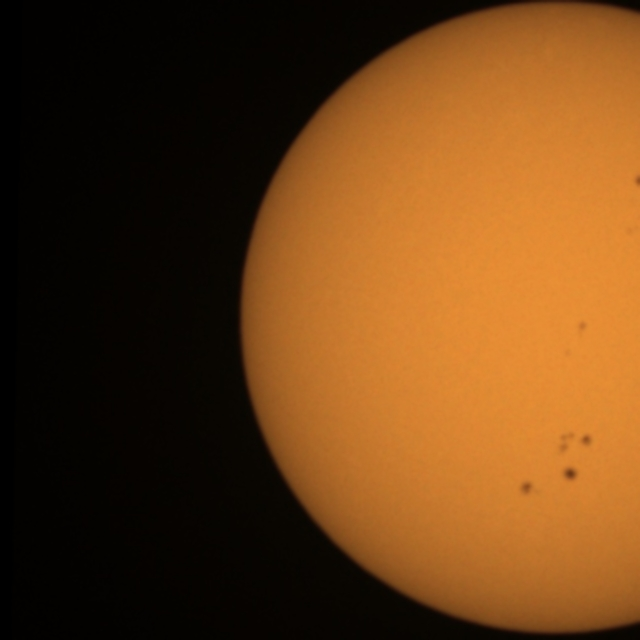sunspot: (555, 427, 590, 488), (515, 467, 580, 498), (560, 319, 590, 362), (556, 430, 594, 458), (517, 479, 540, 499), (560, 464, 580, 484), (578, 433, 594, 449), (576, 319, 589, 335), (632, 173, 640, 191)
